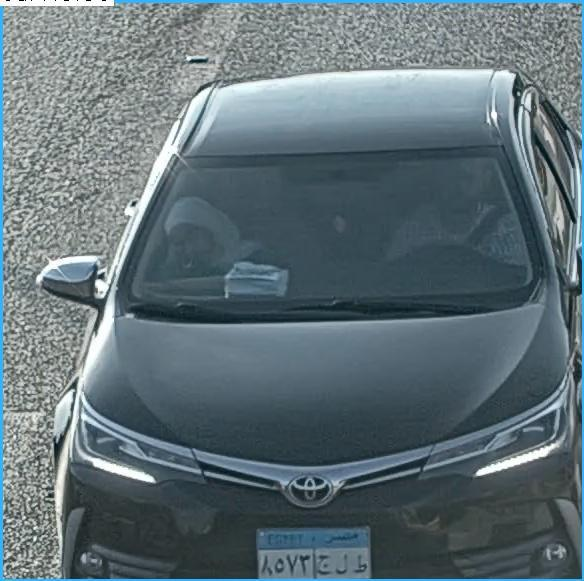windshield: (94, 130, 554, 318)
